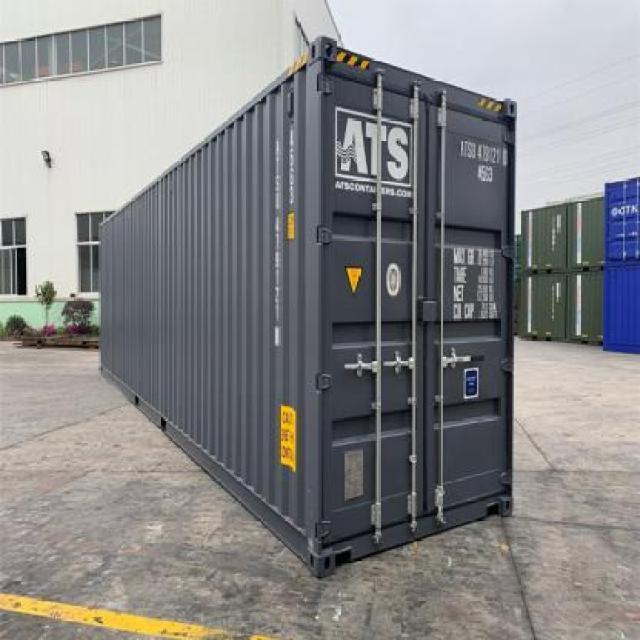ISO: (476, 162, 502, 186)
container_number: (455, 140, 508, 162)
